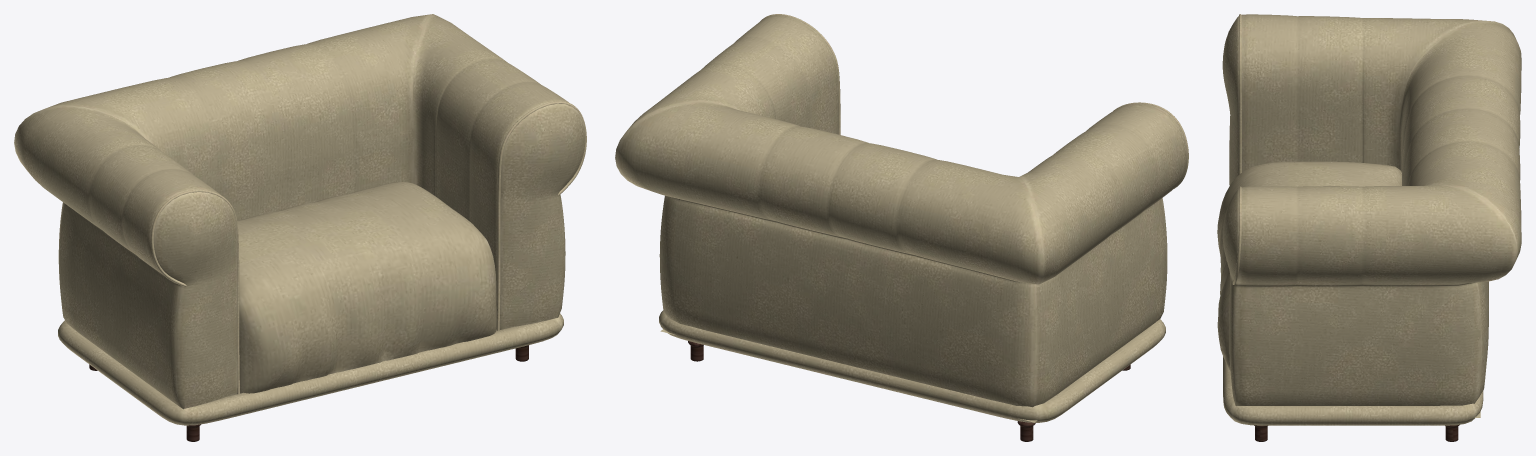
Rendered from chair.glb.
3 renders of one model, left to right at view 1: azimuth 30°, elevation 25°; view 2: azimuth 150°, elevation 25°; view 3: azimuth 270°, elevation 25°, orthographic. The views are drawn at different scales.
Parts seen in each view (by area): view 1: Wide cloth arm chair; view 2: Wide cloth arm chair; view 3: Wide cloth arm chair.
Part boxes in pixels (x1,y1,x2,y2): Wide cloth arm chair: (14, 14, 586, 441); Wide cloth arm chair: (615, 14, 1188, 441); Wide cloth arm chair: (1217, 14, 1521, 441).
Size of the model in its own units: 1.48 by 0.8411 by 0.9092.
Materials: 1 (1 with a texture image).
